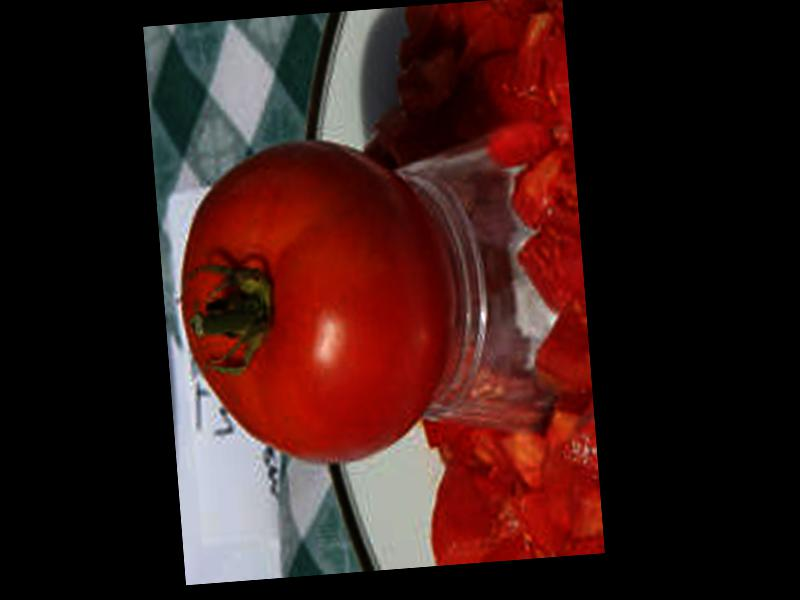Tomato: (167, 129, 460, 476)
